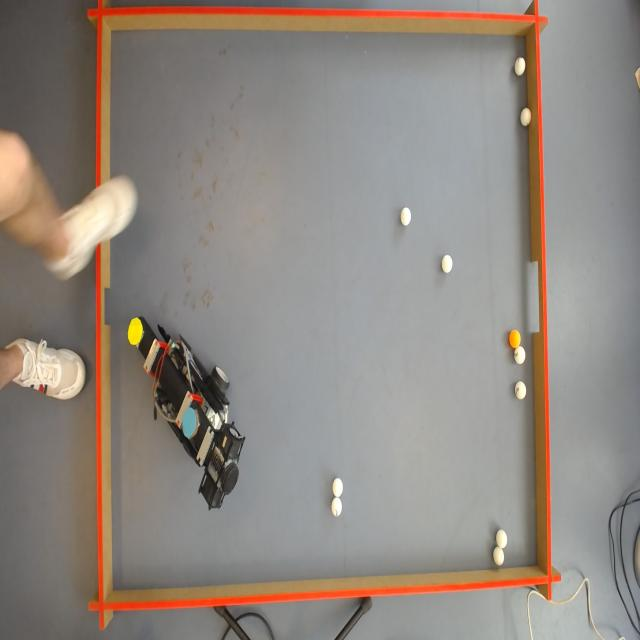orange: (510, 330, 520, 350)
robot: (138, 326, 240, 487)
robot-front: (127, 318, 143, 347)
robot-rear: (181, 407, 197, 438)
white: (514, 380, 528, 400), (494, 546, 506, 568), (498, 530, 511, 550), (515, 344, 528, 363), (514, 56, 526, 76), (519, 107, 530, 127), (332, 498, 344, 516), (401, 208, 412, 226), (332, 478, 343, 496), (442, 256, 453, 274)
